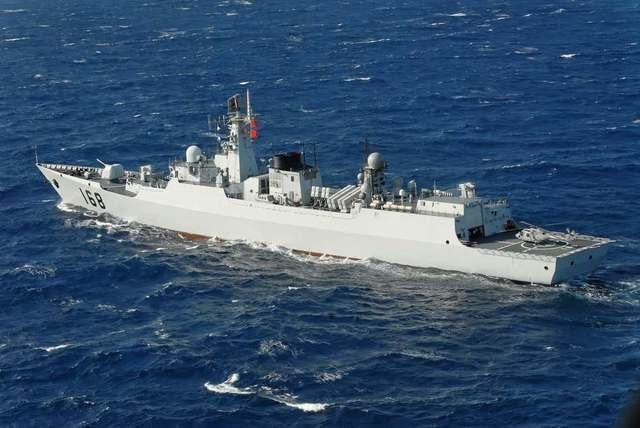warship: (25, 88, 613, 290)
